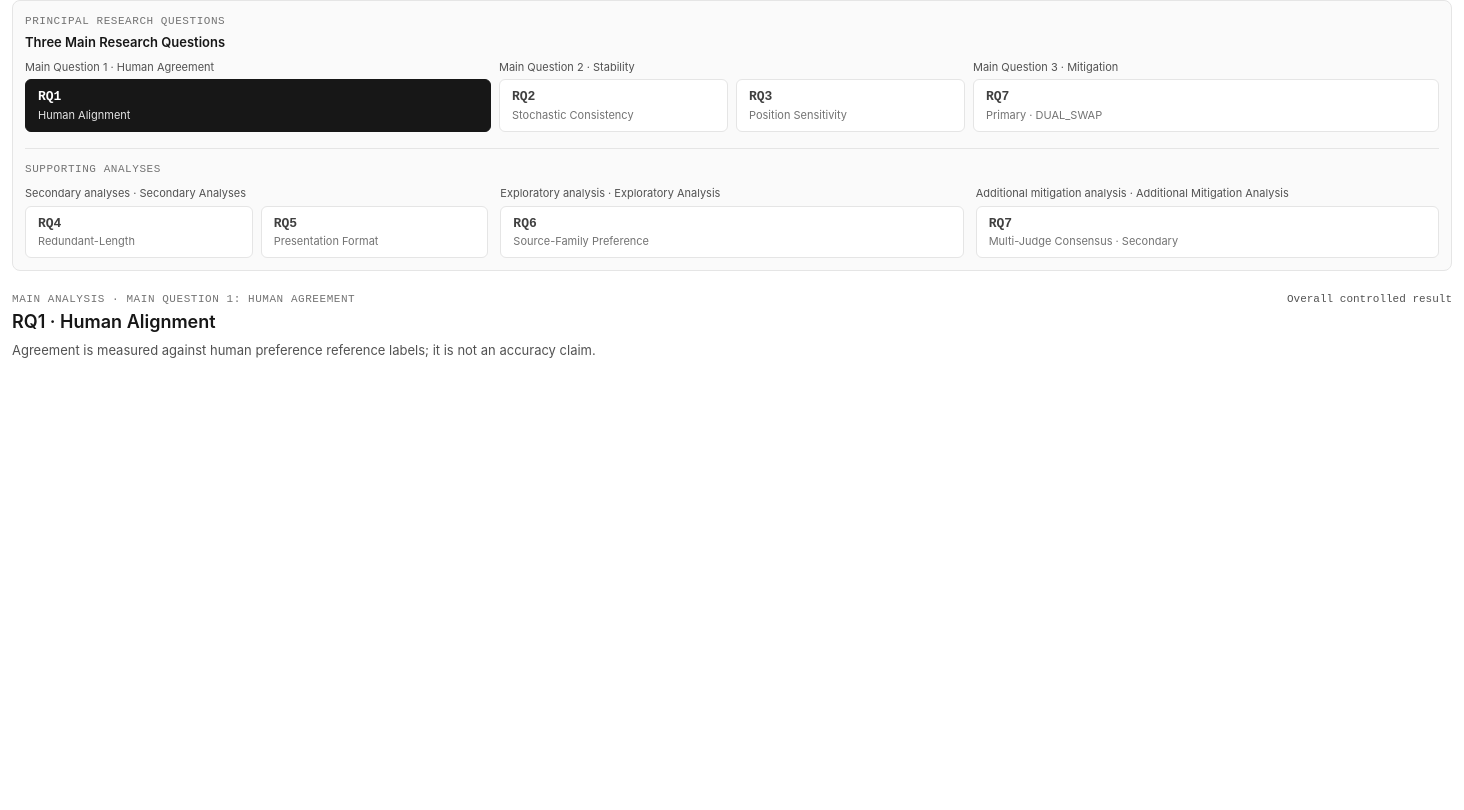
Test case: RQ7 Multi-Judge secondary presentation › renders the API-backed secondary without ranking it against primary DUAL_SWAP
Click the button "RQ7 Primary · DUAL_SWAP": click(1044, 115) [973, 79, 1439, 132]
(page scrolled)
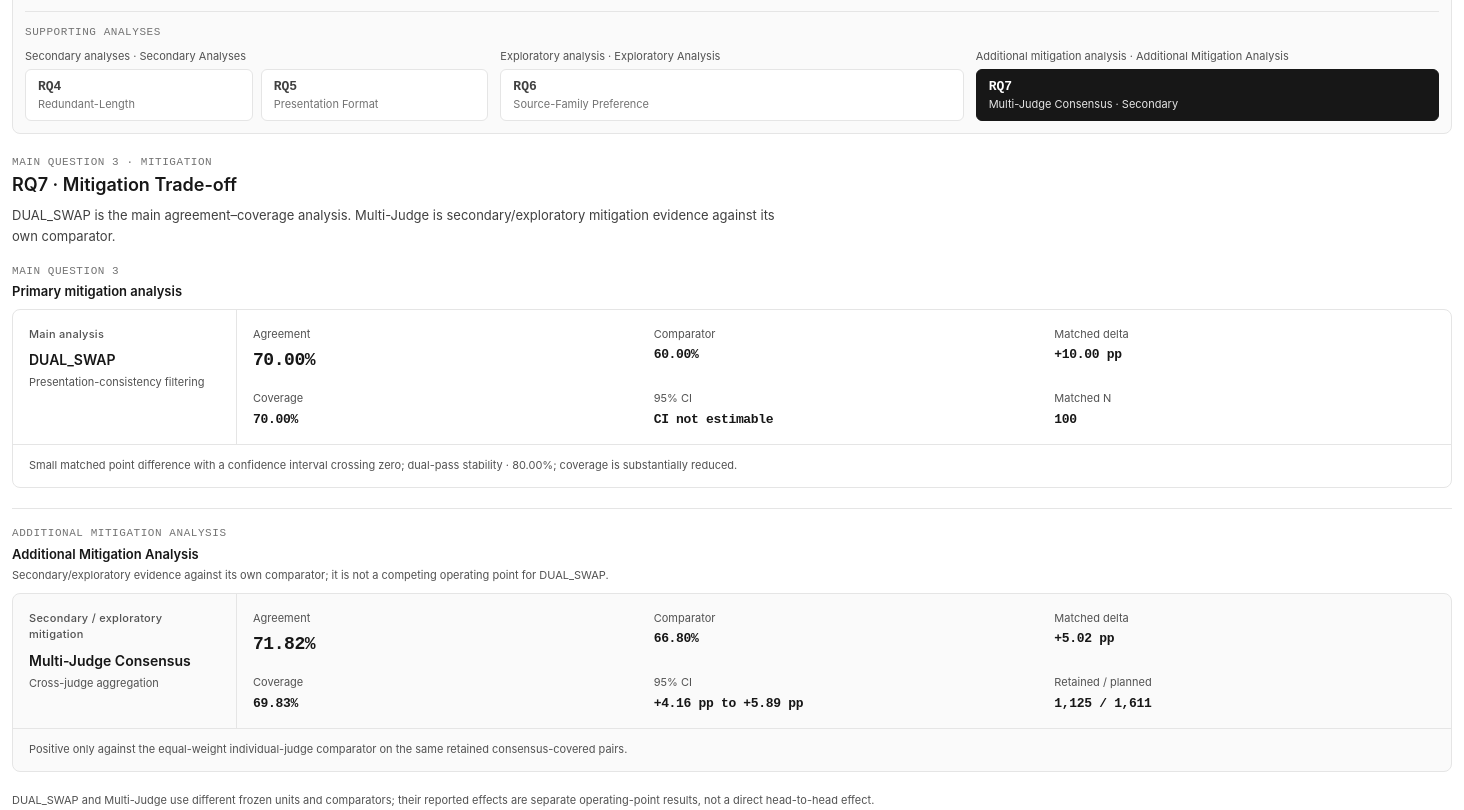
Check: the text "Multi-Judge is secondary/exploratory mitigation evidence" is shown, box [12, 207, 775, 244]
Check: the text "Overall controlled result" is gone
Check: the header with test id "controlled-dual-swap-header" shows "Main analysis", box [29, 327, 104, 341]
